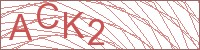2: (86, 18, 106, 48)
A: (8, 12, 33, 43)
C: (35, 1, 60, 31)
K: (61, 10, 86, 40)
